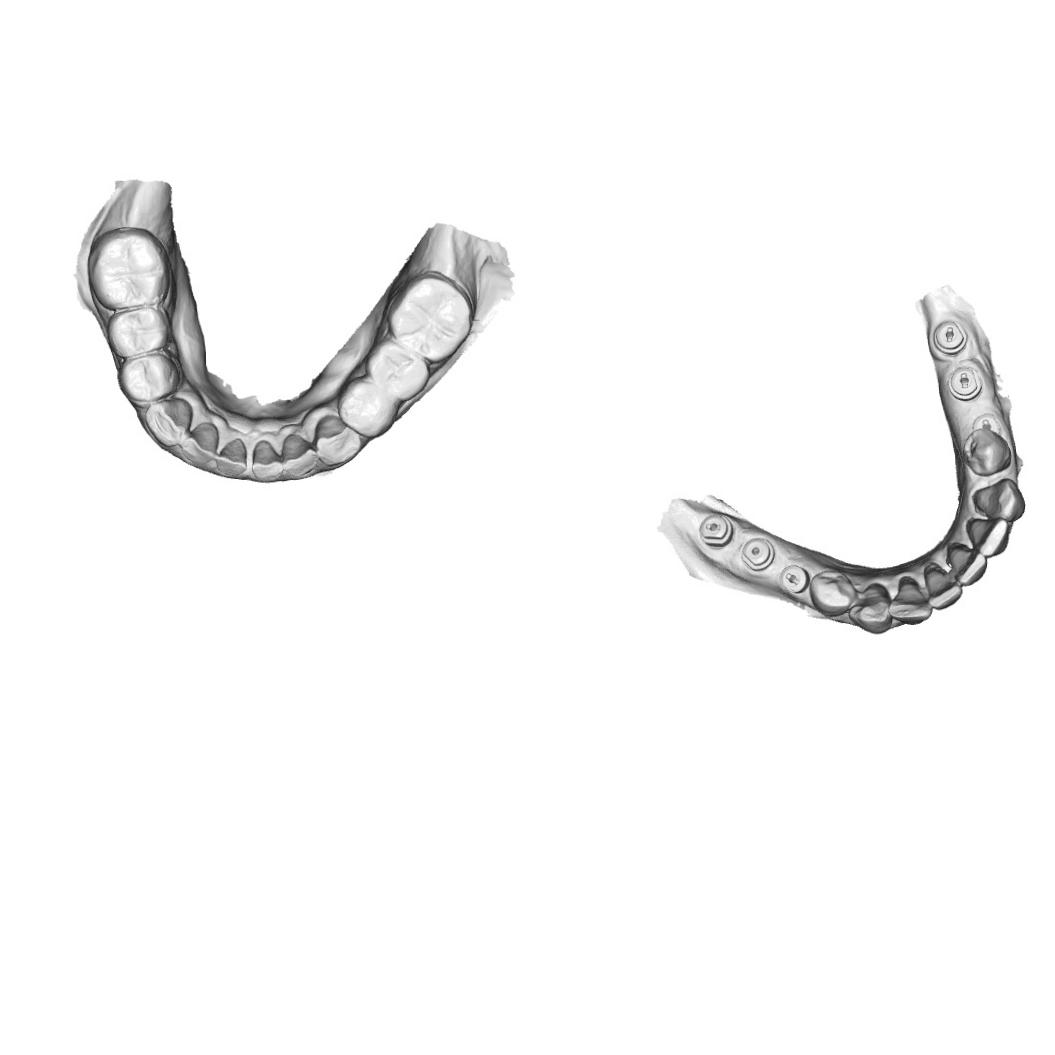canine: (144, 396, 194, 448), (313, 413, 362, 466), (969, 478, 1028, 522), (846, 581, 893, 635)
implant: (740, 535, 775, 571)
implant_minus: (945, 361, 985, 402), (931, 318, 968, 355), (698, 510, 734, 548), (778, 562, 810, 595), (970, 410, 1002, 434)
incisor: (886, 579, 932, 626), (178, 420, 220, 470), (944, 543, 990, 587), (922, 566, 964, 611), (965, 516, 1010, 558), (281, 431, 318, 478), (213, 436, 248, 478), (250, 438, 282, 481)
molar: (384, 270, 476, 364), (84, 224, 174, 312)
premolar: (363, 336, 430, 402), (335, 374, 399, 439), (105, 305, 172, 359), (115, 350, 182, 404), (961, 426, 1014, 478), (808, 566, 856, 618)
